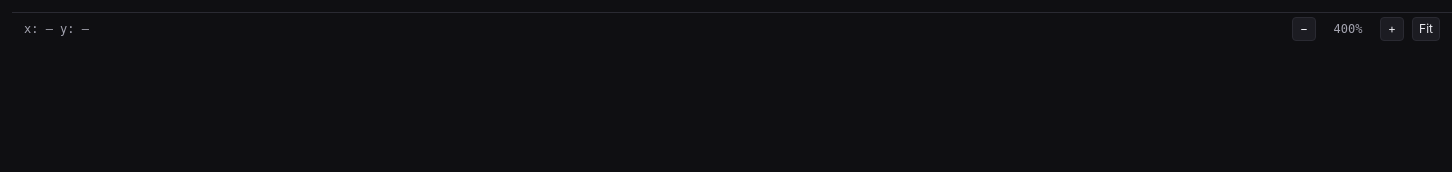
zoom › zooms with the buttons and returns with Fit
Expected: the text "400%" is shown, [1334,22,1362,36]
Click the button named "Zoom in".
click(1392, 28)  # box [1380,16,1404,40]
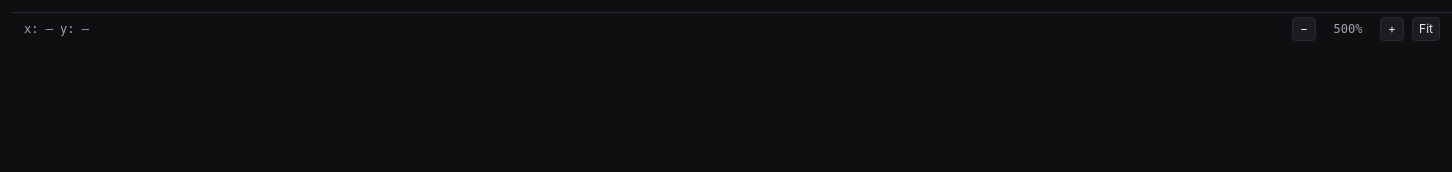
Now the text "500%" is shown, box [1334,22,1362,36]
Click the button named "Zoom in".
click(1392, 28)  # box [1380,16,1404,40]
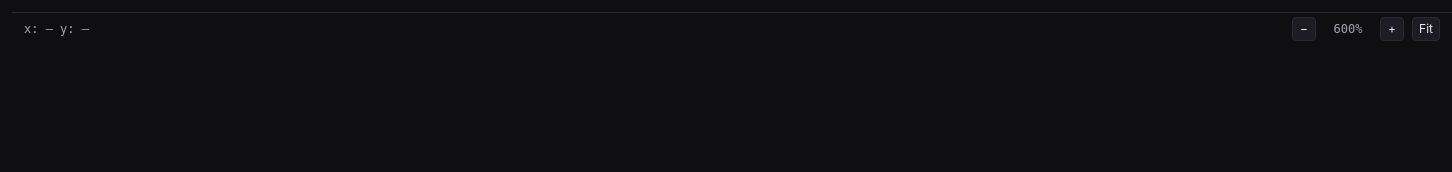
Now the text "600%" is shown, box [1334,22,1362,36]
Click the button "Fit".
click(1426, 28)  # box [1412,16,1440,40]
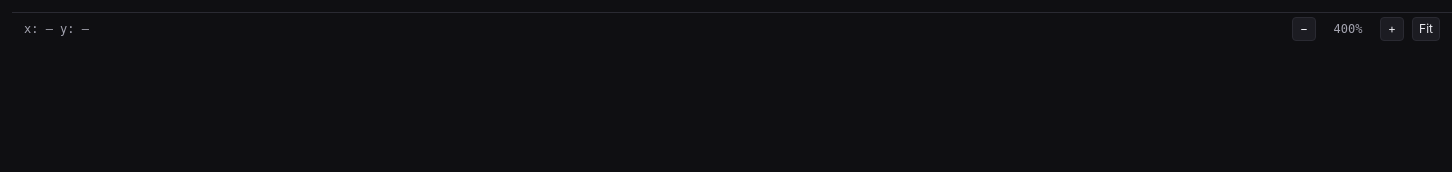
Now the text "400%" is shown, box [1334,22,1362,36]
